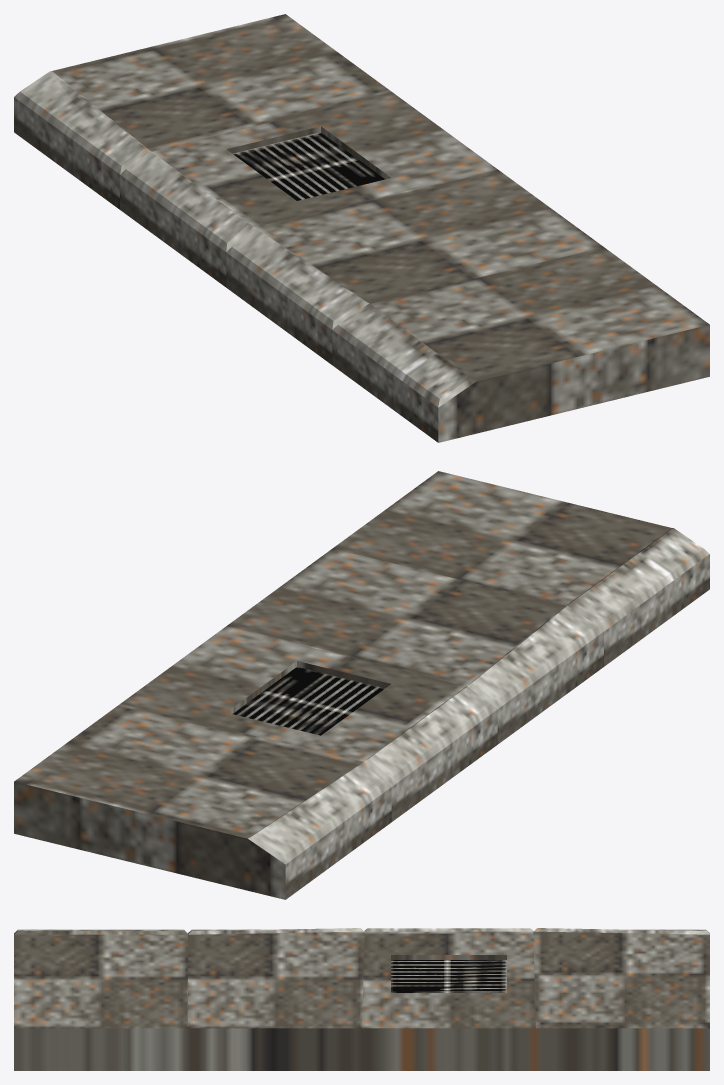
File: sidewalk.fbx
3 views of the same model, one above another, from view 1: azimuth 30°, elevation 25°; view 2: azimuth 150°, elevation 25°; view 3: azimuth 270°, elevation 25° (orthographic). The views are drawn at different scales.
Parts seen in each view (by area): view 1: Cube.484; view 2: Cube.484; view 3: Cube.484.
Part boxes in pixels (x1=…): Cube.484: x1=14, y1=14, x2=709, y2=442; Cube.484: x1=14, y1=471, x2=709, y2=899; Cube.484: x1=14, y1=928, x2=709, y2=1070.
Size of the model in its own units: 200 by 38.6 by 541.
